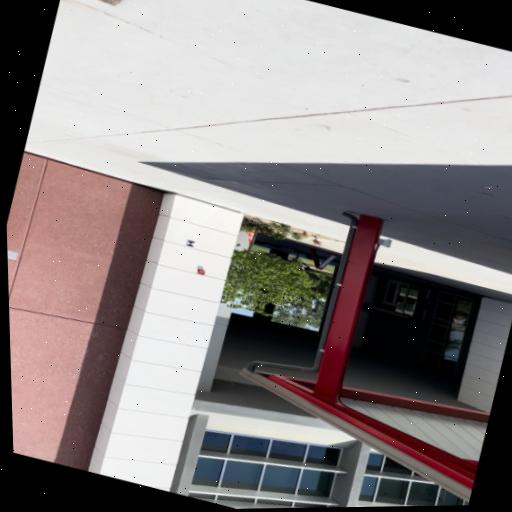target2: (184, 239, 195, 247)
